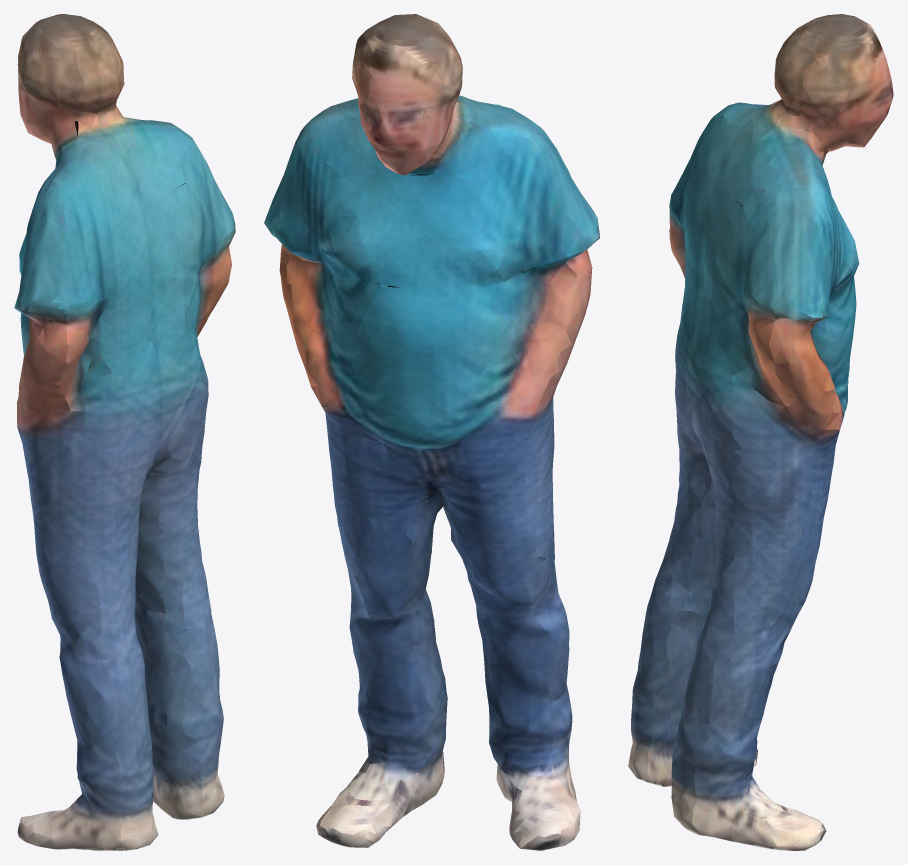
3 views of the same model, side by side, from view 1: azimuth 30°, elevation 25°; view 2: azimuth 150°, elevation 25°; view 3: azimuth 270°, elevation 25° (orthographic). The views are drawn at different scales.
Visible parts, largest first — view 1: world; view 2: world; view 3: world.
Part boxes in pixels (left/top/right/bottom): world: left=14, top=14, right=235, bottom=850; world: left=264, top=14, right=599, bottom=850; world: left=628, top=14, right=893, bottom=850.
Size of the model in its own units: 0.3235 by 0.936 by 0.2856.
Materials: 1 (1 with a texture image).
